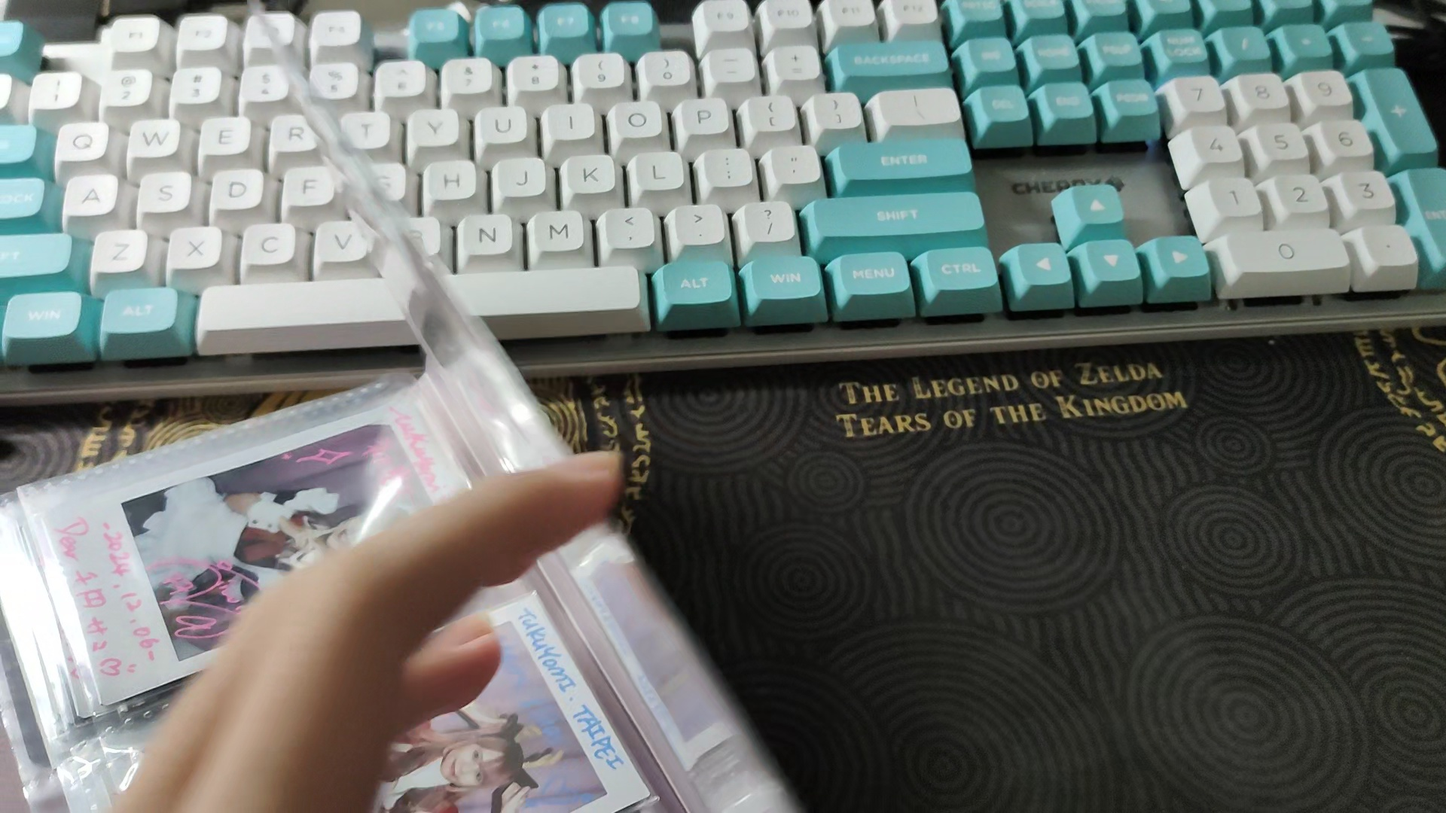Photo_book: (0, 0, 812, 813)
